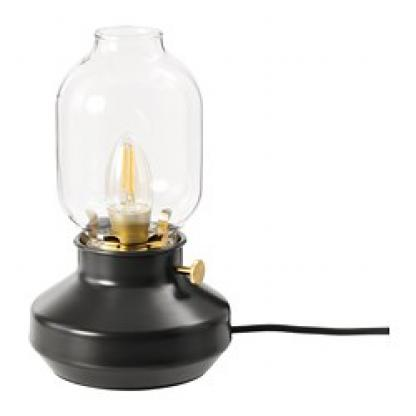Lamp: (13, 15, 257, 399)
